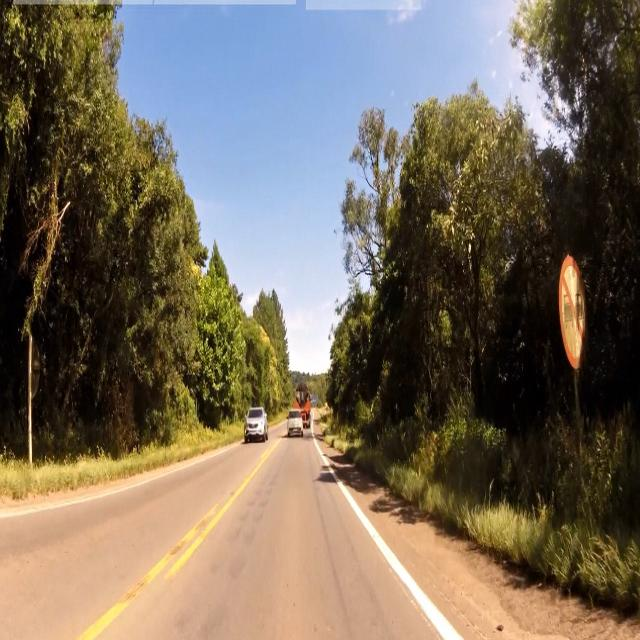R-7: (556, 251, 590, 368)
